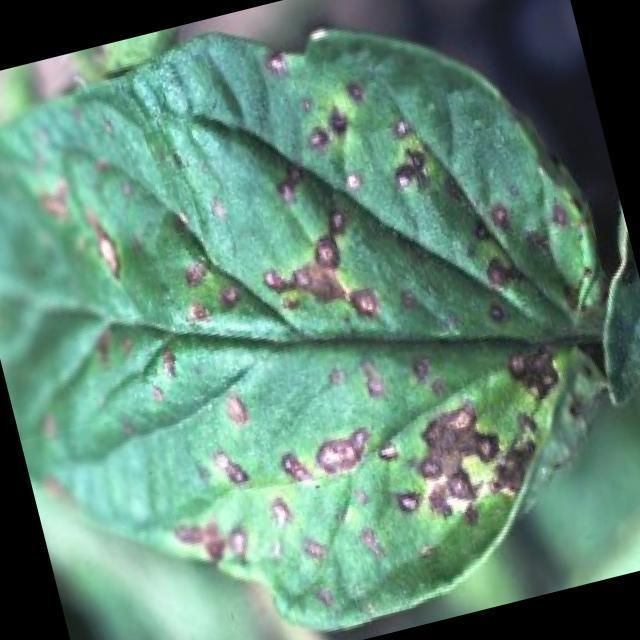Septoria: (1, 17, 639, 628)
